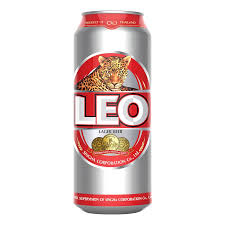can: (70, 6, 155, 217)
